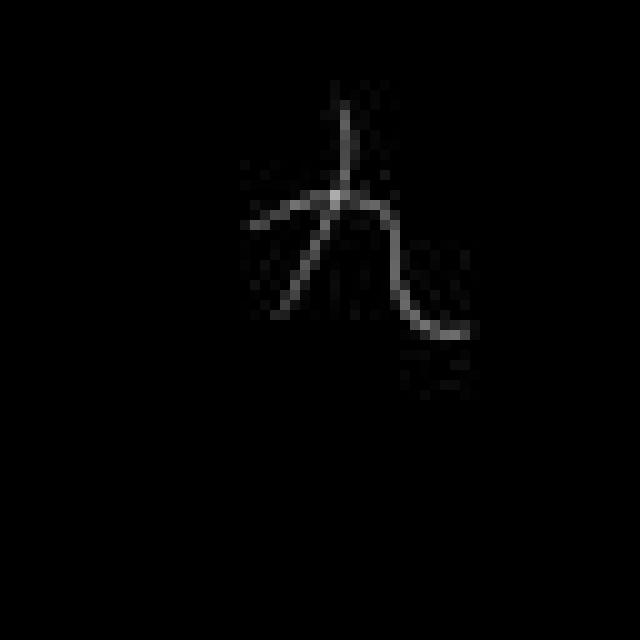9 -nine-: (253, 98, 468, 349)
